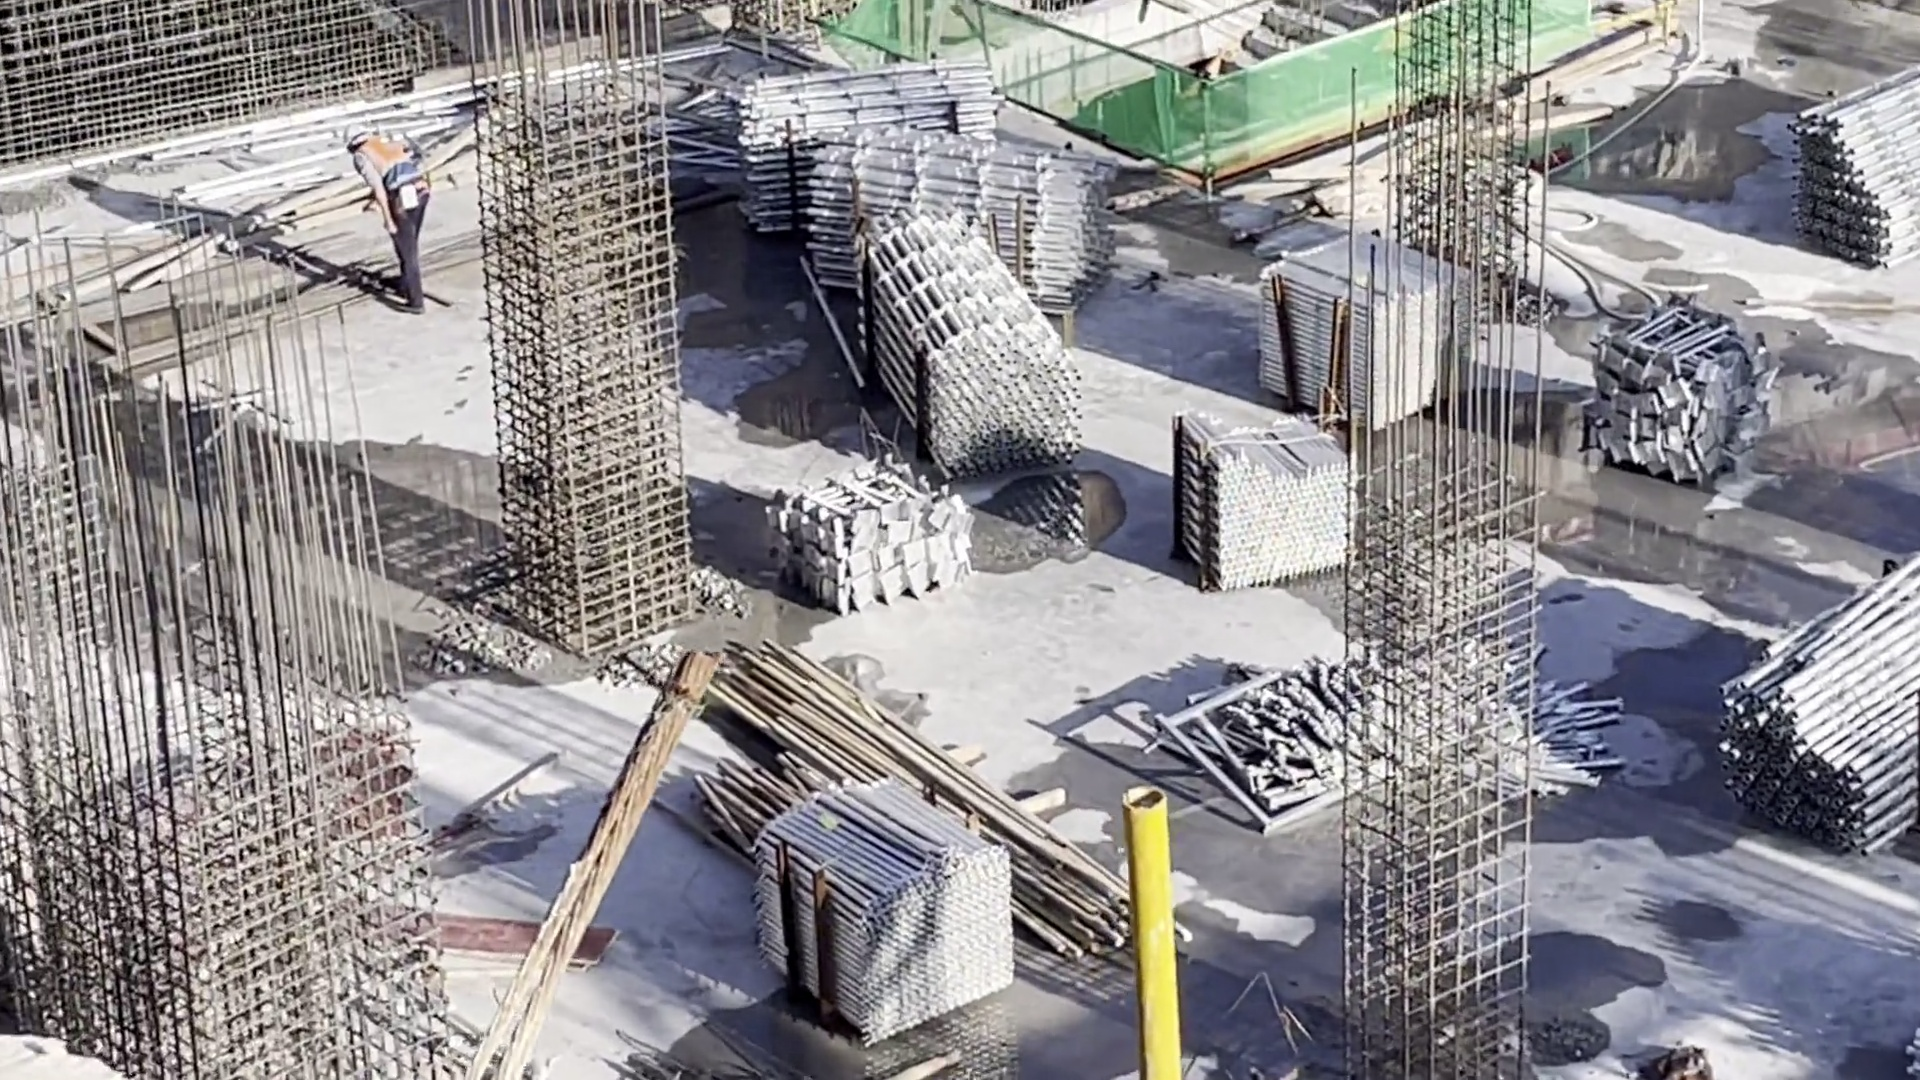helmet: (343, 122, 370, 143)
person: (343, 123, 432, 314)
scaffold: (1205, 629, 1578, 803), (741, 781, 1015, 1000), (879, 221, 1071, 464), (1727, 644, 1920, 867), (1187, 444, 1399, 611), (729, 79, 991, 207), (1268, 235, 1435, 416), (855, 141, 1081, 273), (1796, 111, 1920, 260)
vest: (354, 146, 421, 201)
